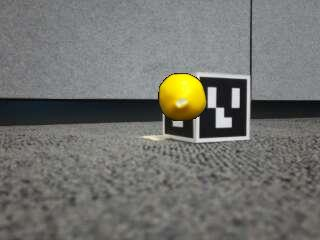lemon: (160, 75, 206, 121)
